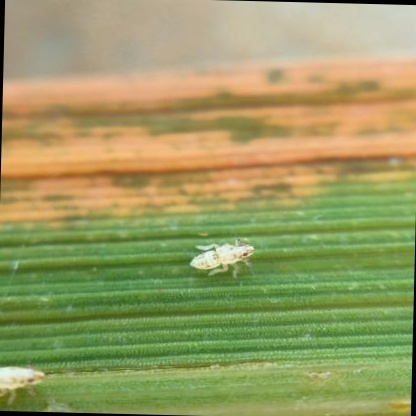Brown_hopper: (174, 223, 274, 286)
